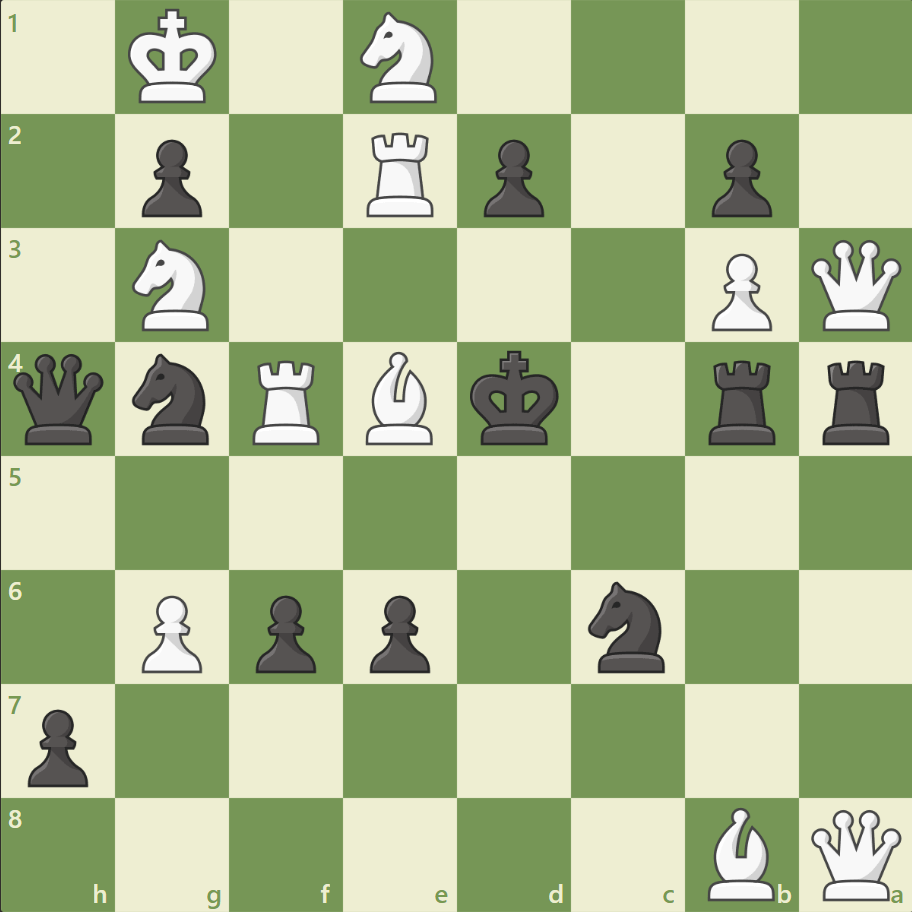B: (698, 801, 782, 904), (358, 347, 442, 449)
K: (124, 4, 224, 112)
N: (124, 234, 222, 337), (351, 7, 449, 110)
P: (133, 586, 208, 677), (701, 246, 776, 337)
Q: (805, 804, 904, 903), (805, 236, 904, 335)
R: (246, 352, 329, 449), (360, 125, 442, 222)
k: (465, 344, 565, 452)
n: (124, 348, 222, 450), (579, 575, 676, 677)
p: (20, 700, 95, 791), (247, 586, 322, 677), (701, 132, 776, 223), (474, 132, 549, 223), (133, 132, 208, 223), (361, 586, 435, 677)
q: (10, 349, 109, 449)
r: (814, 352, 897, 449), (700, 352, 783, 449)
